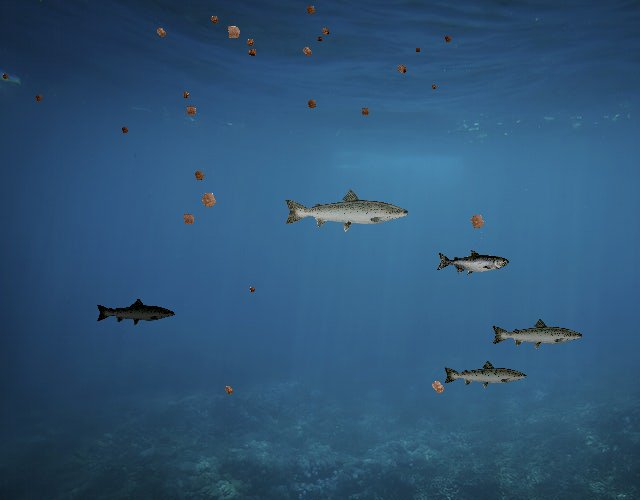Fish: (282, 187, 411, 233), (491, 317, 585, 351), (442, 359, 528, 390), (95, 297, 176, 327), (437, 249, 510, 275), (108, 304, 155, 321)
Pellet: (194, 184, 224, 215), (424, 374, 451, 401), (177, 208, 200, 231), (220, 381, 238, 399), (178, 88, 193, 103), (118, 123, 132, 137), (246, 284, 258, 296)
